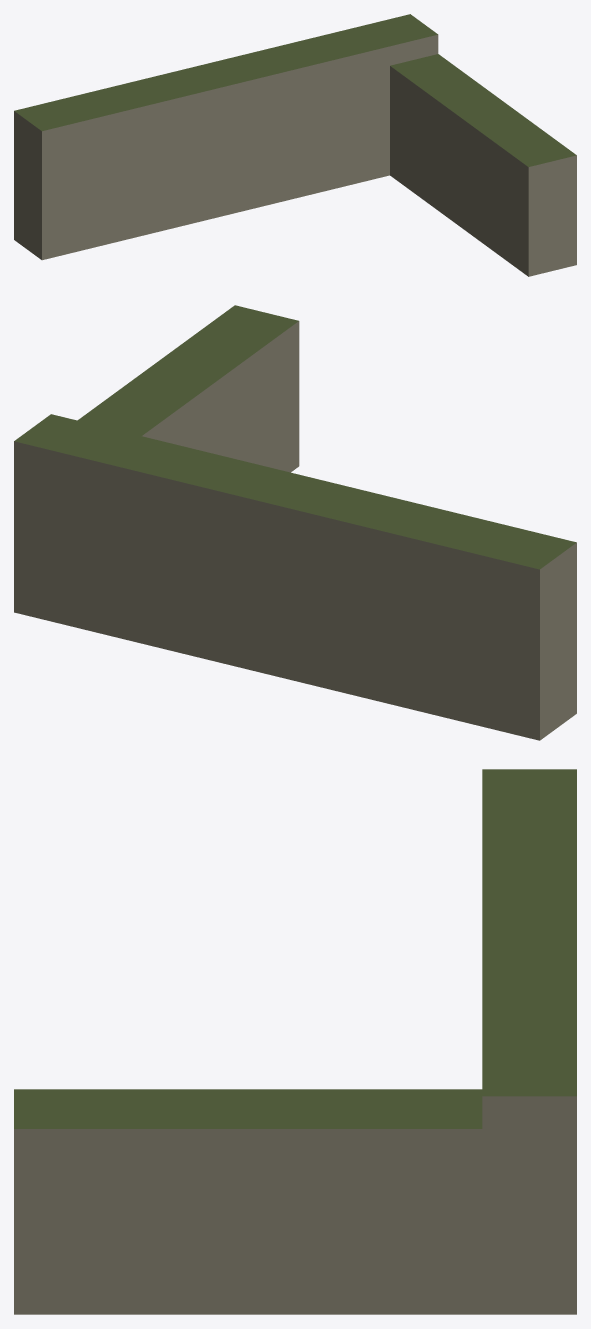
Rendered from ruin-wall-corner.tone-v1.lod2.glb.
The picture shows the model from 3 angles, top to bottom: view 1: azimuth 30°, elevation 25°; view 2: azimuth 150°, elevation 25°; view 3: azimuth 270°, elevation 25°; orthographic projection. The views are drawn at different scales.
Visible parts, largest first — view 1: ruin-wall-corner; view 2: ruin-wall-corner; view 3: ruin-wall-corner.
Boxes of the visible parts, x1,y1,x2,y2 form: ruin-wall-corner: (14, 14, 576, 276); ruin-wall-corner: (14, 305, 576, 740); ruin-wall-corner: (14, 769, 576, 1314).
Size of the model in its own units: 9 by 2.8 by 6.55.
